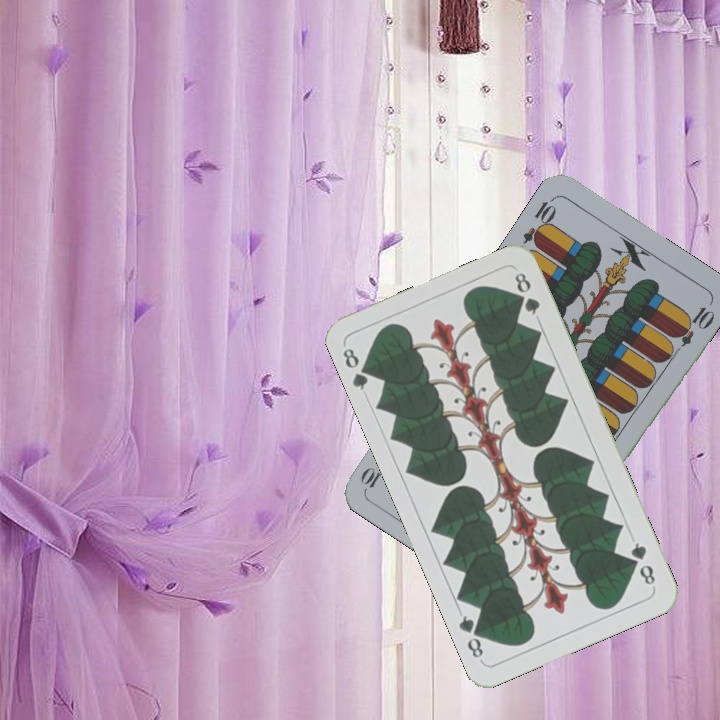E10: (519, 193, 560, 250)
G8: (338, 344, 376, 393), (626, 538, 658, 588)
